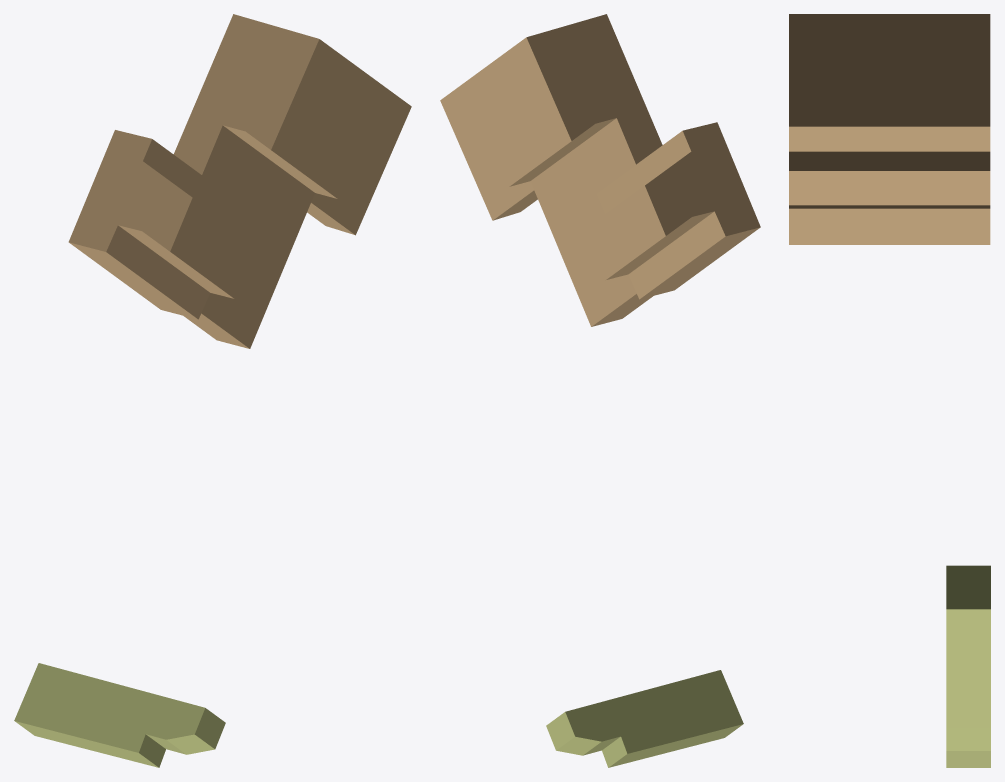
The picture shows the model from 3 angles, left to right: view 1: azimuth 30°, elevation 25°; view 2: azimuth 150°, elevation 25°; view 3: azimuth 270°, elevation 25°; orthographic projection. The views are drawn at different scales.
Visible parts, largest first — view 1: 0_1_0_0_1_0_3_1; view 2: 0_1_0_0_1_0_3_1; view 3: 0_1_0_0_1_0_3_1.
Boxes of the visible parts, x1,y1,x2,y2 form: 0_1_0_0_1_0_3_1: (14,14,411,767); 0_1_0_0_1_0_3_1: (440,14,760,767); 0_1_0_0_1_0_3_1: (789,14,990,767).
Bounding box in the file's own units: 51.47 × 115 × 27.1.
